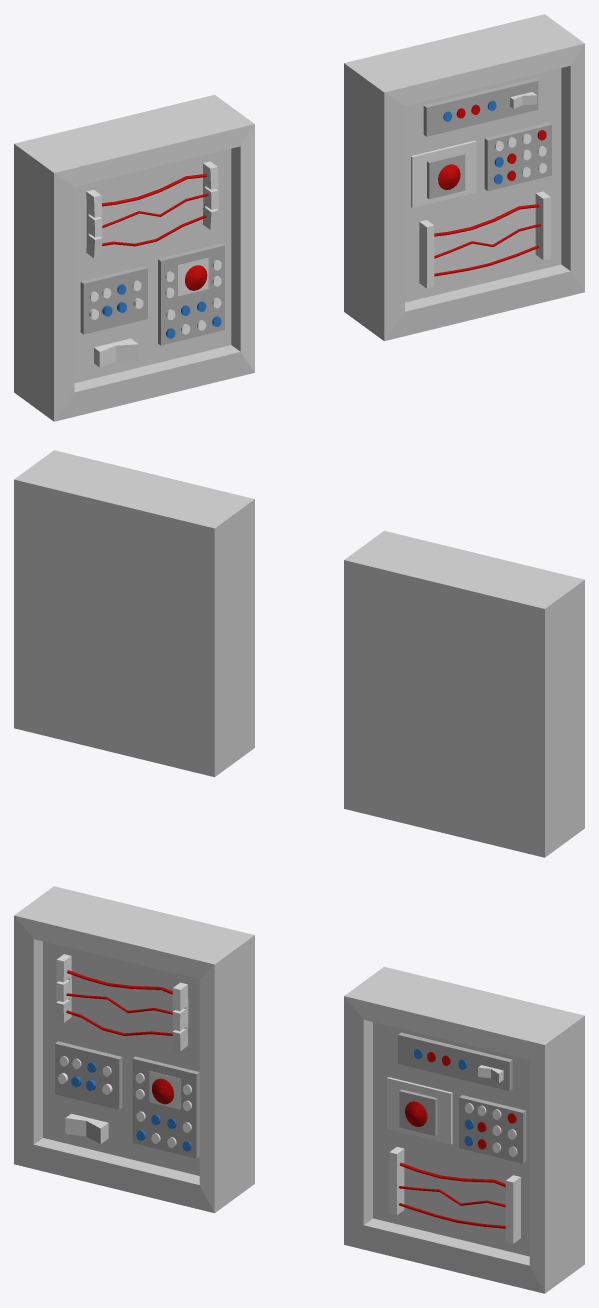
File: pannello elettrico_colorato.fbx
3 renders of one model, top to bottom at view 1: azimuth 30°, elevation 25°; view 2: azimuth 150°, elevation 25°; view 3: azimuth 330°, elevation 25°, orthographic.
Visible parts, largest first — view 1: Generic_2, Generic, Cube_4, Polygon, Cube_5, Cube_3, Cube_7, Cube_6, Cube_10, Generic_3, Cube, Cube_2 (+3 smaller); view 2: Generic, Generic_2; view 3: Generic_2, Generic, Cube_4, Polygon, Cube_5, Cube_3, Cube_7, Cube_6, Cube_10, Generic_4, Cube_2, Generic_3 (+3 smaller).
Boxes of the visible parts, box(x1,y1,x2,y2) form: Generic_2: box(344, 14, 584, 341); Generic: box(14, 94, 254, 421); Cube_4: box(158, 243, 224, 345); Polygon: box(240, 124, 254, 372); Cube_5: box(423, 78, 538, 136); Cube_3: box(80, 266, 147, 334); Cube_7: box(484, 122, 551, 190); Cube_6: box(411, 140, 476, 207); Cube_10: box(427, 152, 465, 199); Generic_3: box(86, 190, 102, 258); Cube: box(419, 220, 434, 288); Cube_2: box(535, 191, 550, 260); Generic: box(344, 530, 584, 857); Generic_2: box(14, 450, 254, 777); Generic_2: box(344, 966, 584, 1293); Generic: box(14, 886, 254, 1213); Cube_4: box(132, 1056, 199, 1158); Polygon: box(199, 965, 214, 1212); Cube_5: box(398, 1032, 512, 1090); Cube_3: box(55, 1041, 122, 1109); Cube_7: box(459, 1095, 526, 1163); Cube_6: box(387, 1077, 452, 1144); Cube_10: box(399, 1089, 437, 1136); Generic_4: box(172, 982, 188, 1051); Cube_2: box(505, 1175, 520, 1243); Generic_3: box(56, 954, 71, 1022).
Bounding box in the file's own units: 2.01 × 0.9018 × 0.2668.
